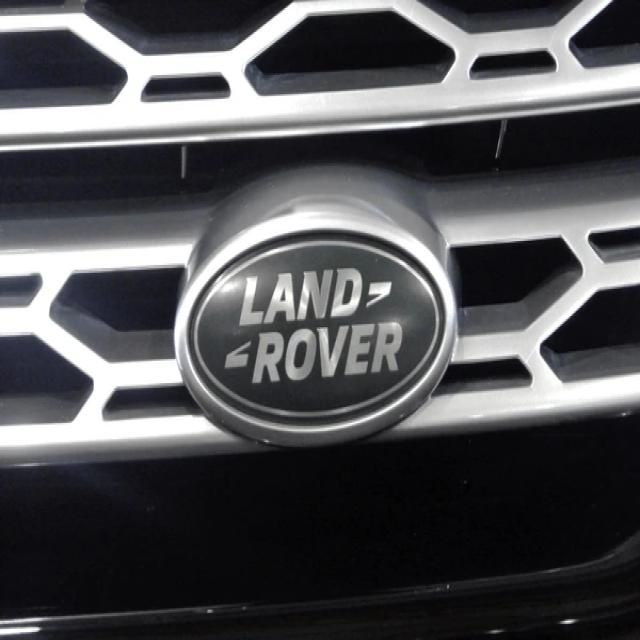landrover: (181, 222, 437, 440)
